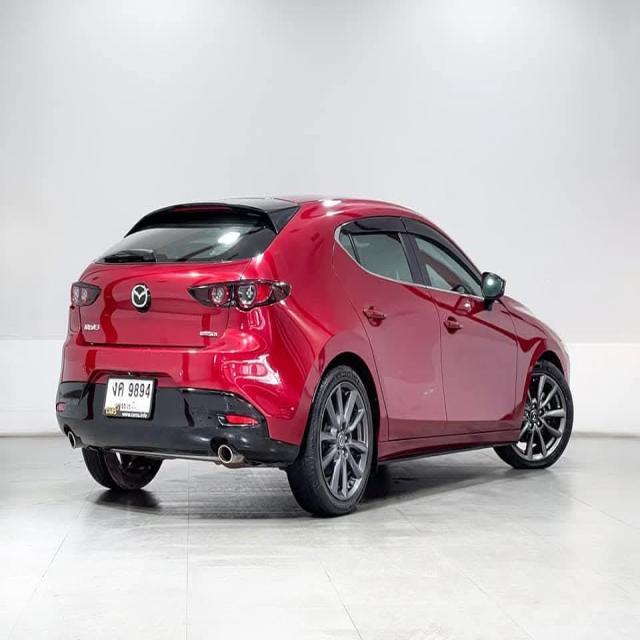Hatchback: (55, 196, 576, 520)
